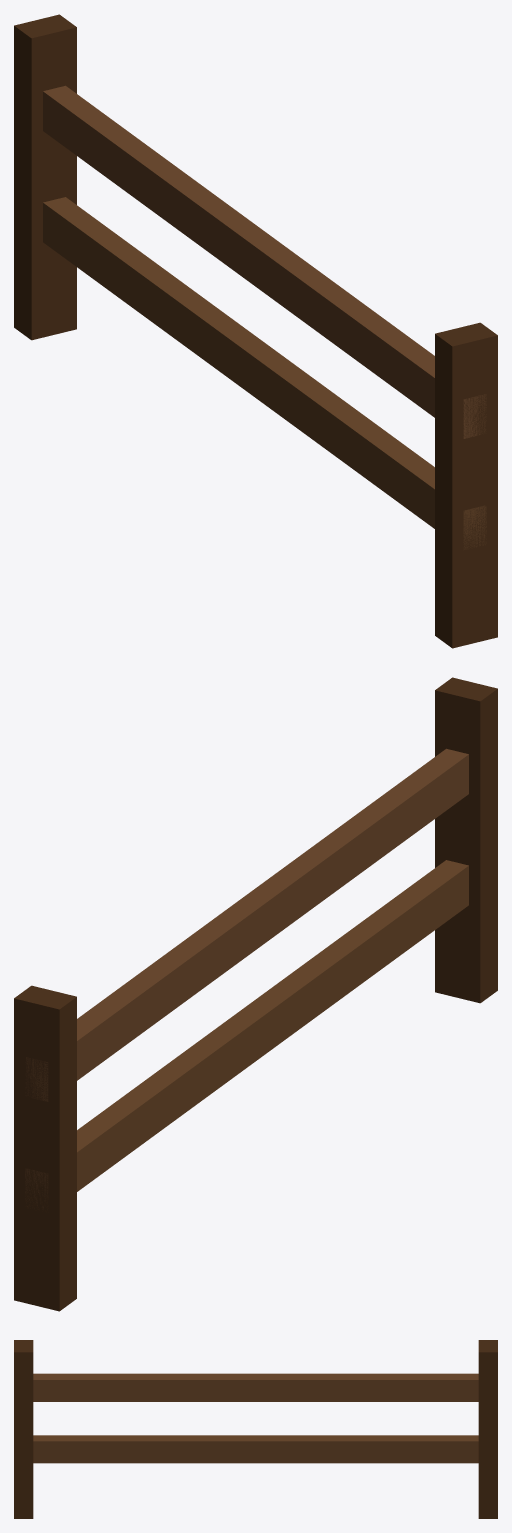
File: fence-rail.glb
3 renders of one model, top to bottom at view 1: azimuth 30°, elevation 25°; view 2: azimuth 150°, elevation 25°; view 3: azimuth 270°, elevation 25°, orthographic. The views are drawn at different scales.
Parts seen in each view (by area): view 1: fence-rail; view 2: fence-rail; view 3: fence-rail.
Part boxes in pixels (left/top/right/bottom): fence-rail: left=14, top=14, right=497, bottom=648; fence-rail: left=14, top=677, right=497, bottom=1311; fence-rail: left=14, top=1340, right=497, bottom=1518.
Bounding box in the file's own units: 0.06 × 0.38 × 1.
